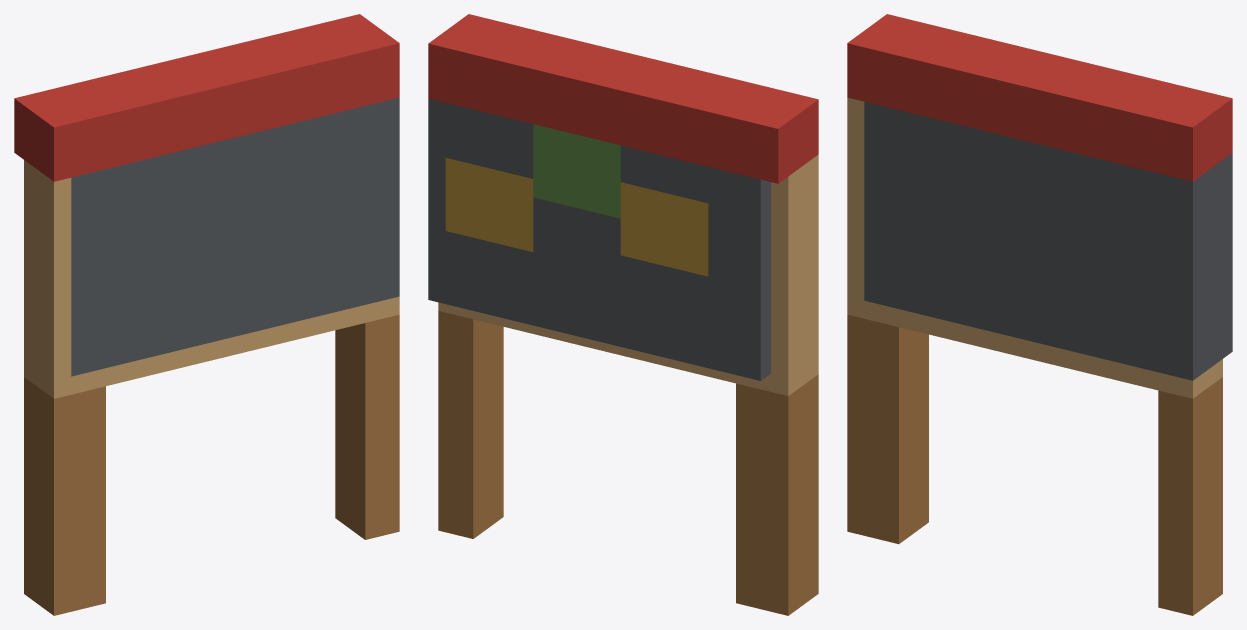
File: hearthvale_furniture_notice_board.obj
3 renders of one model, left to right at view 1: azimuth 30°, elevation 25°; view 2: azimuth 150°, elevation 25°; view 3: azimuth 330°, elevation 25°, orthographic.
Visible parts, largest first — view 1: palette_4, palette_18, palette_2, palette_3; view 2: palette_4, palette_18, palette_2, palette_3, palette_14, palette_11; view 3: palette_4, palette_18, palette_2, palette_3.
Boxes of the visible parts, <box> form: palette_4: <box>71,97,399,376</box>; palette_18: <box>14,14,399,181</box>; palette_2: <box>24,314,399,615</box>; palette_3: <box>24,160,399,398</box>; palette_4: <box>428,98,770,380</box>; palette_18: <box>428,14,818,183</box>; palette_2: <box>438,311,818,615</box>; palette_3: <box>438,154,818,396</box>; palette_14: <box>445,158,708,276</box>; palette_11: <box>533,124,620,218</box>; palette_4: <box>864,101,1232,380</box>; palette_18: <box>847,14,1232,181</box>; palette_2: <box>847,314,1222,615</box>; palette_3: <box>847,97,1222,398</box>.
Bounding box in the file's own units: 1.25 × 1.69 × 0.25.
